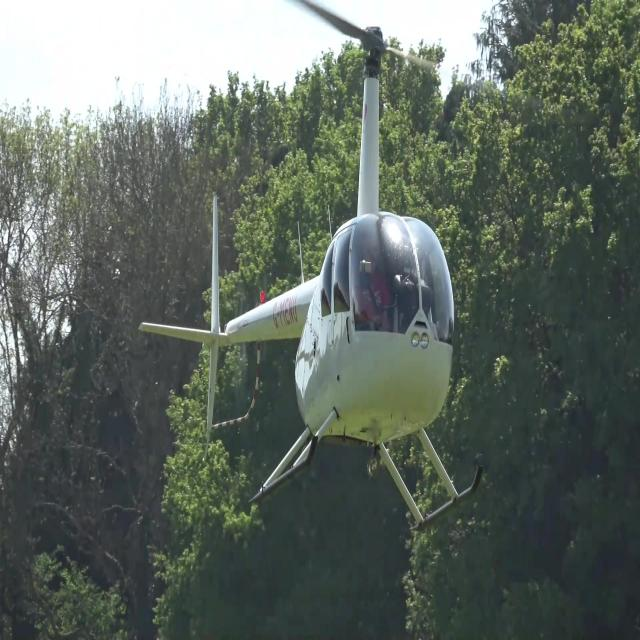CIV_HELO: (136, 23, 484, 537)
